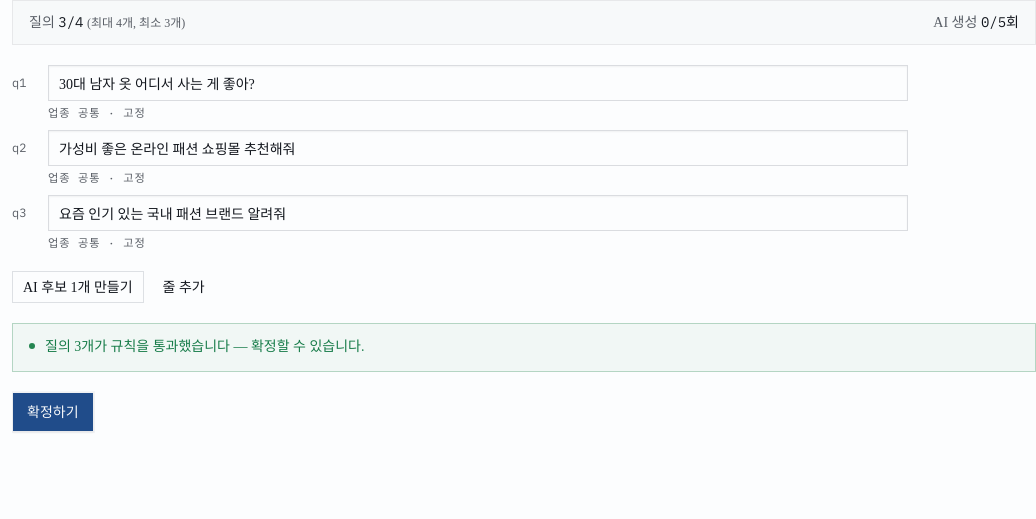
Test: QueryEditor — AI 생성 › 서버가 한도로 거절하면 서버 문구를 그대로 보여준다
The image size is (1036, 519).
Click the button "AI 후보 1개 만들기". click: x=78, y=288
box: [12,272,144,304]
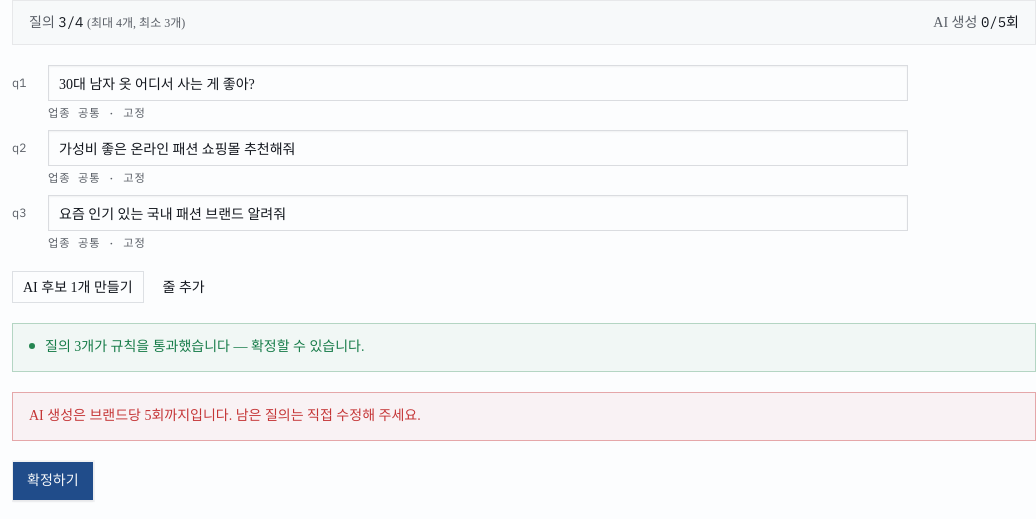
Expected: the message "AI 생성은 브랜드당 5회까지입니다. 남은 질의는 직접 수정해 주세요." is shown, [12,392,1035,441]
